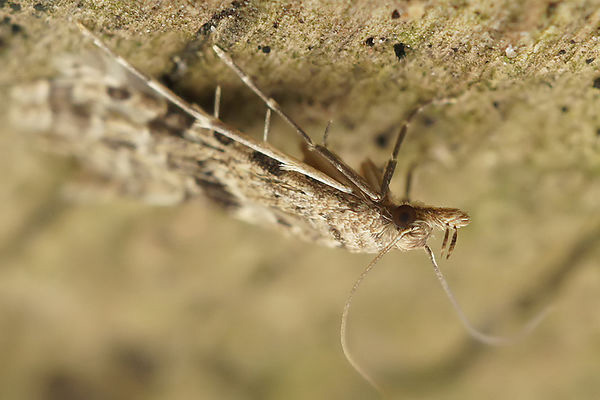Alucitidae: (69, 18, 563, 392)
moth: (71, 20, 565, 394)
